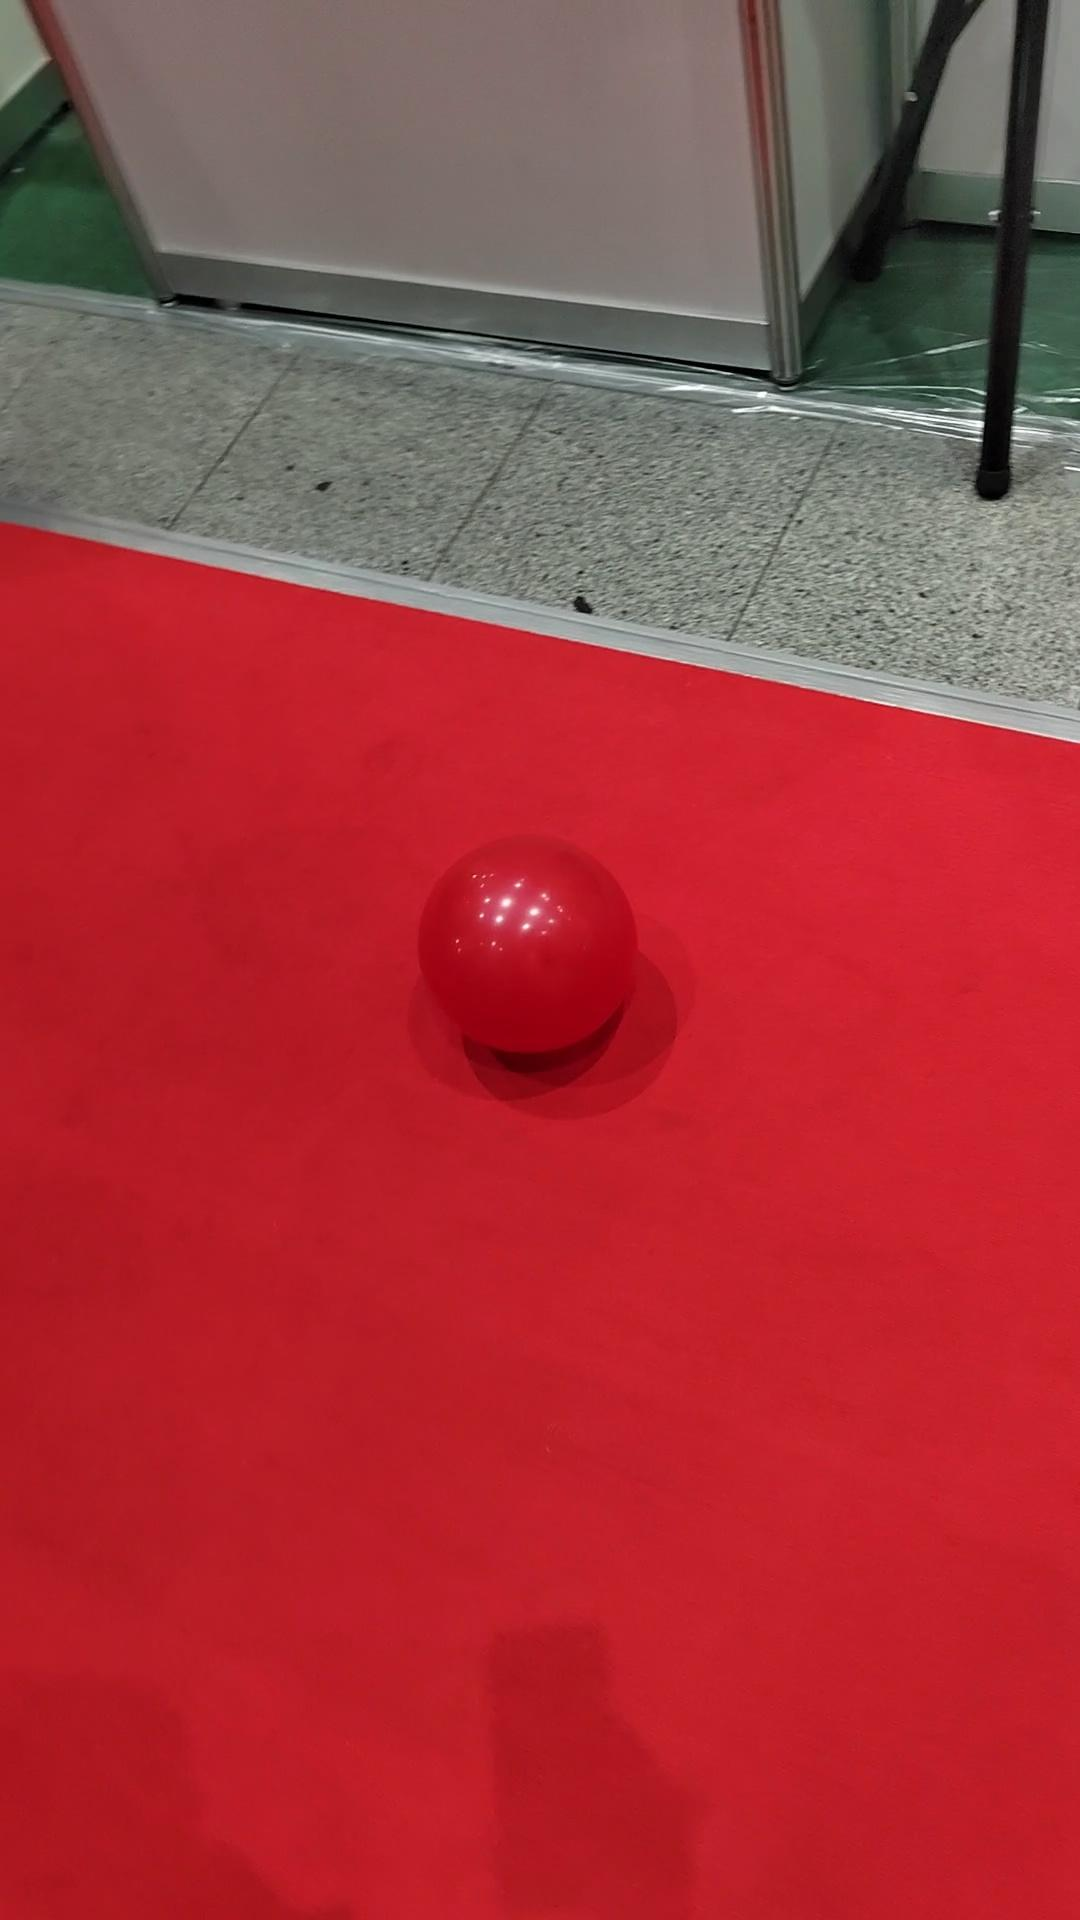red: (417, 836, 636, 1054)
